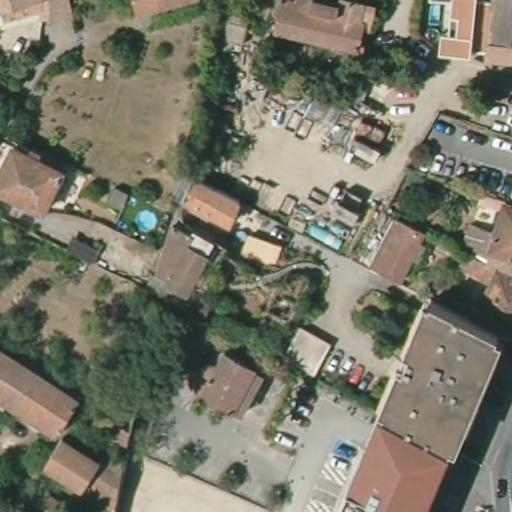pool: (133, 208, 160, 234)
